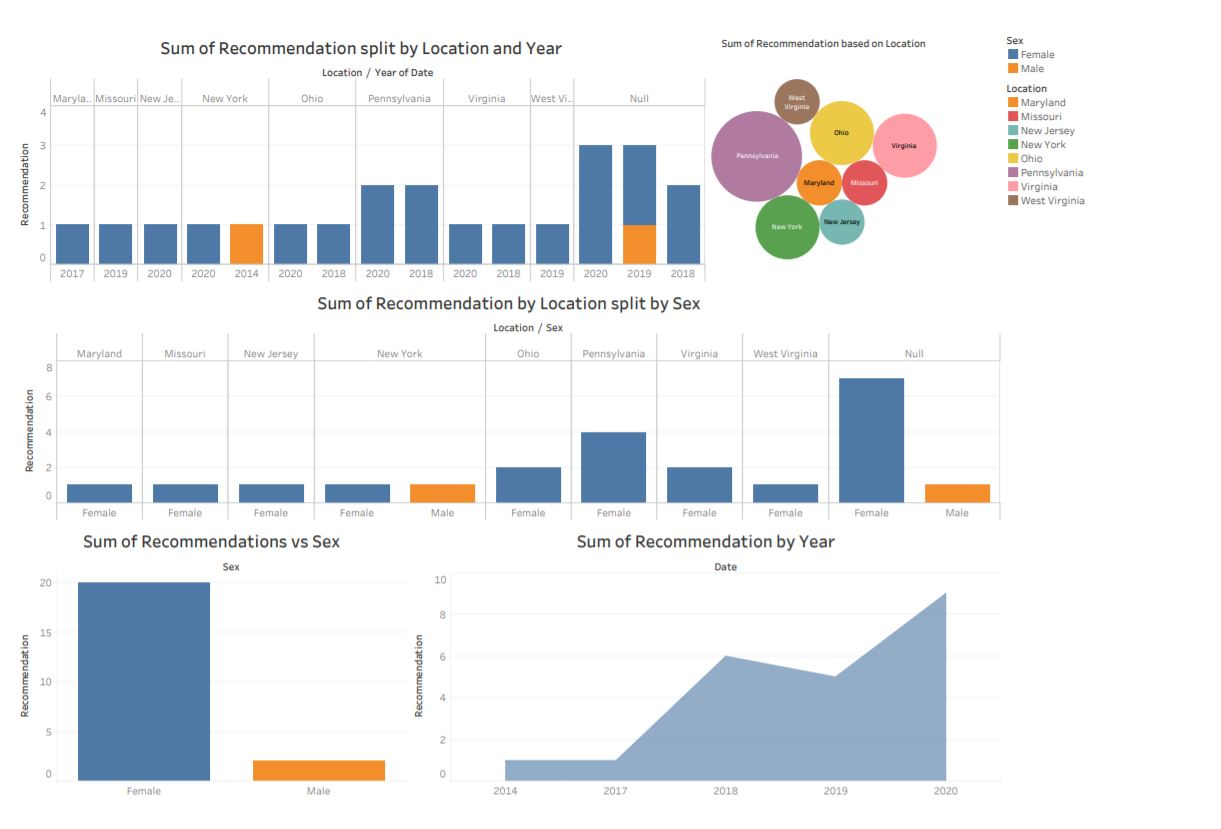

The dashboard page shown, as its layout file describes it:
{"tool":"tableau","page":{"name":"Dashboard 1","canvas":[1654,1169],"ordinal":0},"visuals":[{"type":"worksheet","box":[0,0,1654,1169]},{"type":"worksheet","param":"horz","box":[8,8,1638,1153]},{"type":"worksheet","box":[8,8,1638,1153]},{"type":"worksheet","title":"Sheet 5","mark":"Bar","rows":["Recommendation"],"cols":["Location","Date "],"box":[8,8,1108,381]},{"type":"worksheet","title":"Sheet 2","mark":"Circle","box":[1116,8,352.6,381]},{"type":"worksheet","title":"Sheet 2","mark":"Circle","param":"[federated.0stes9m1ffqx56168b4m31o52nh8].[none:Location:nk]","box":[1468.7,8,177.3,190.5]},{"type":"worksheet","param":"vert","box":[1468.7,198.5,177.3,190.5]},{"type":"worksheet","title":"Sheet 1","mark":"Automatic","rows":["Recommendation"],"cols":["Sex"],"param":"[federated.0stes9m1ffqx56168b4m31o52nh8].[none:Sex:nk]","box":[1468.7,198.5,177.3,72]},{"type":"worksheet","title":"Sheet 4","mark":"Automatic","rows":["Recommendation"],"cols":["Location","Sex"],"box":[8,389,1638,357]},{"type":"worksheet","title":"Sheet 1","mark":"Automatic","rows":["Recommendation"],"cols":["Sex"],"box":[8,746,652.8,415]},{"type":"worksheet","title":"Sheet 3","mark":"Area","rows":["Recommendation"],"cols":["Date "],"box":[660.8,746,985.2,415]}]}

Visuals, with their boxes on the page's 1654x1169 design canvas (x1, y1, x2, y2). These are canvas units, not pixel positions in the 1221x829 screenshot, which may show the page scaled, cropped or inside an application window:
worksheet: crop(0, 0, 1654, 1169)
worksheet: crop(8, 8, 1646, 1161)
worksheet: crop(8, 8, 1646, 1161)
"Sheet 5" worksheet (Bar marks): crop(8, 8, 1116, 389)
"Sheet 2" worksheet (Circle marks): crop(1116, 8, 1469, 389)
"Sheet 2" worksheet (Circle marks): crop(1469, 8, 1646, 198)
worksheet: crop(1469, 198, 1646, 389)
"Sheet 1" worksheet: crop(1469, 198, 1646, 270)
"Sheet 4" worksheet: crop(8, 389, 1646, 746)
"Sheet 1" worksheet: crop(8, 746, 661, 1161)
"Sheet 3" worksheet (Area marks): crop(661, 746, 1646, 1161)
